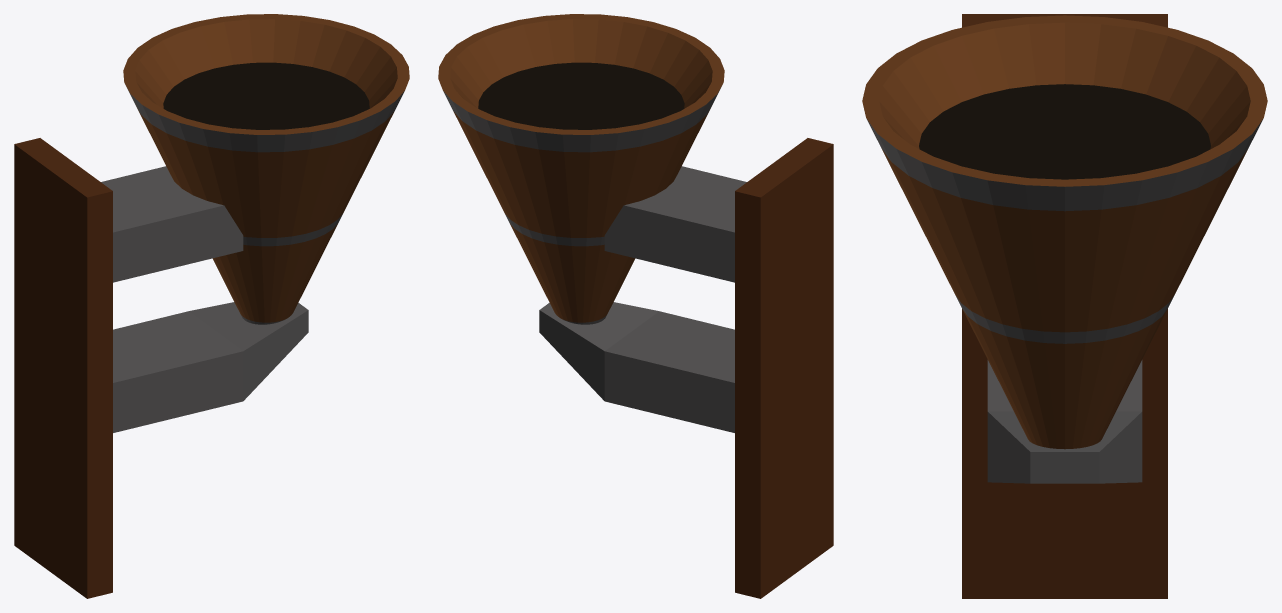
Rendered from Torch.fbx.
3 renders of one model, left to right at view 1: azimuth 30°, elevation 25°; view 2: azimuth 150°, elevation 25°; view 3: azimuth 270°, elevation 25°, orthographic. The views are drawn at different scales.
Visible parts, largest first — view 1: Cube.017; view 2: Cube.017; view 3: Cube.017.
Part boxes in pixels (x1,y1,x2,y2): Cube.017: (14, 14, 409, 598); Cube.017: (438, 14, 833, 598); Cube.017: (862, 14, 1267, 598).
Bounding box in the file's own units: 274 × 342 × 200.
